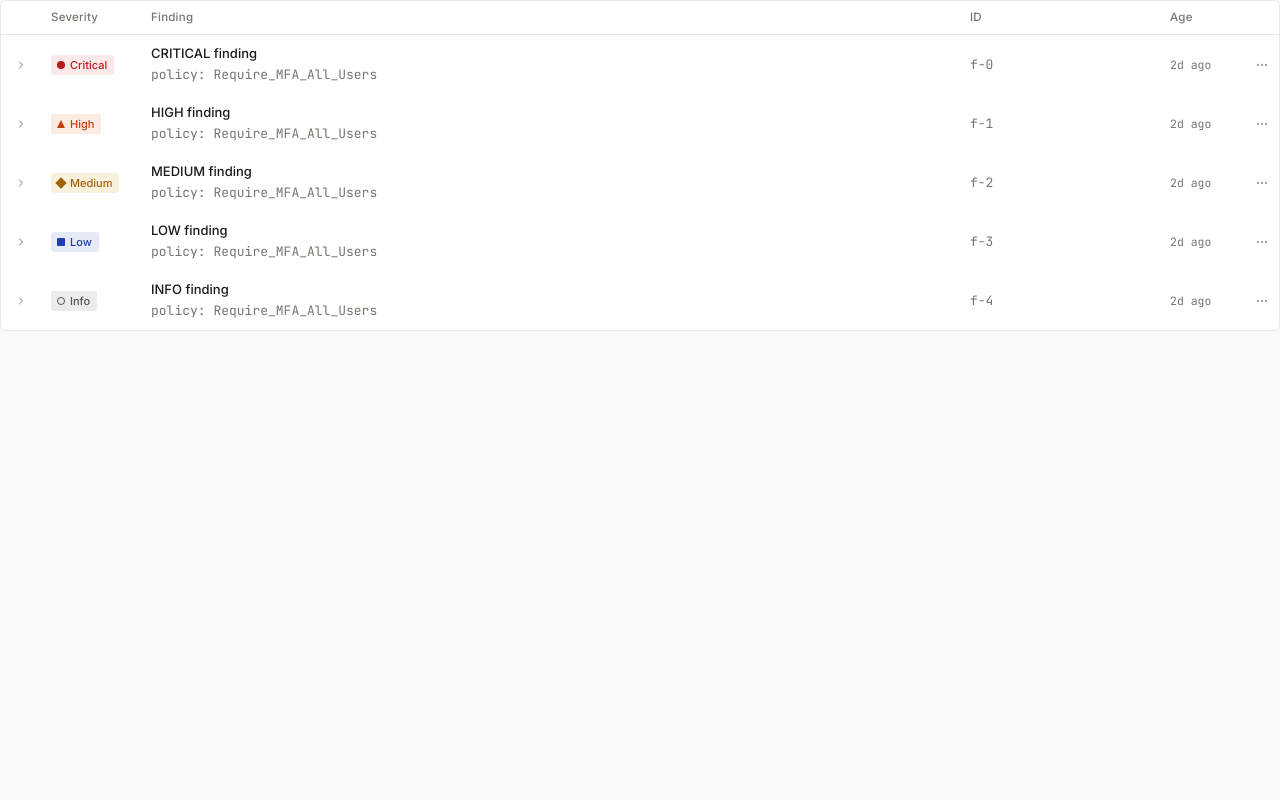
Scenario: FindingsTable › toggles inline expansion on row click and shows the 5 sections
What coordinates should you click on to do the following:
click the row that starts with "Critical"
I would click on:
 (83, 65)
Its box is [1,35,1279,94].
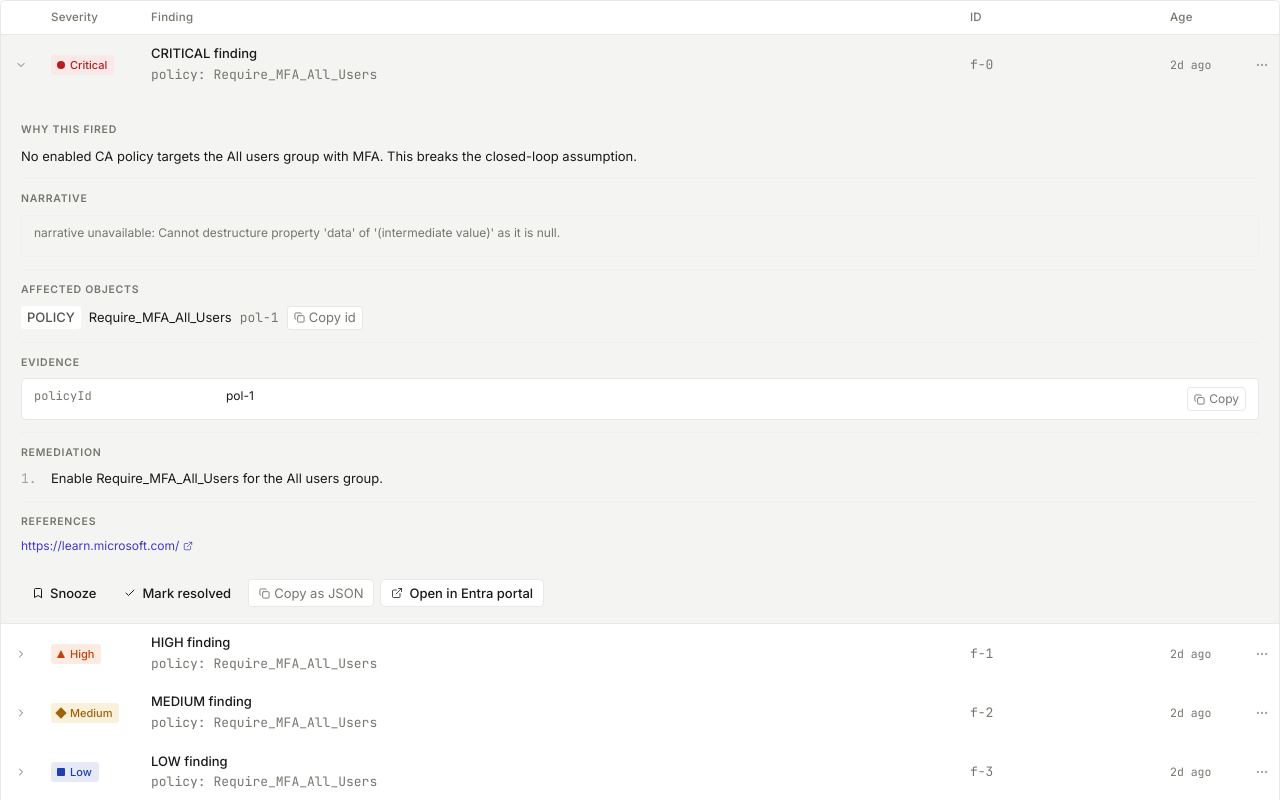
Now the text "Why this fired" is shown, box [21,123,117,136]
Now the text "Affected objects" is shown, box [21,283,139,296]
Now the text "Evidence" is shown, box [21,356,80,369]
